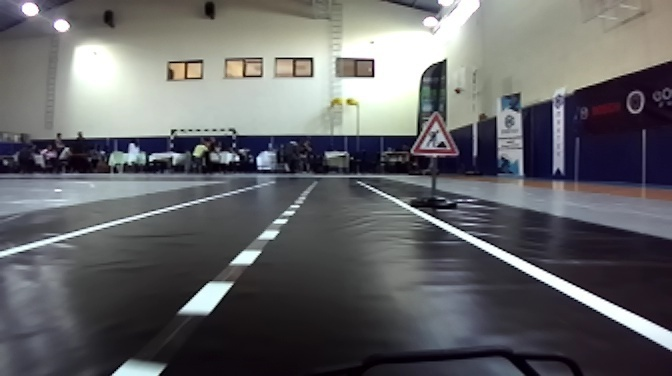yol_yapimi: (406, 109, 461, 161)
